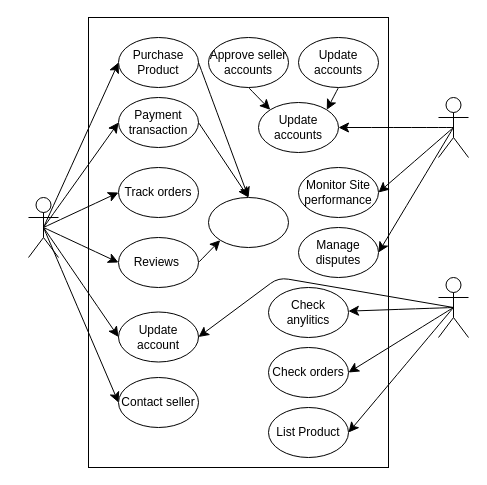
This 487x485 diagram has some shape labels left out. Each missing label, with the centre of its shape:
"Admin" belongs at (x=453, y=127).
"Customer" belongs at (x=43, y=227).
"Seller" belongs at (x=453, y=307).
"Transaction Managment" belongs at (x=248, y=222).
